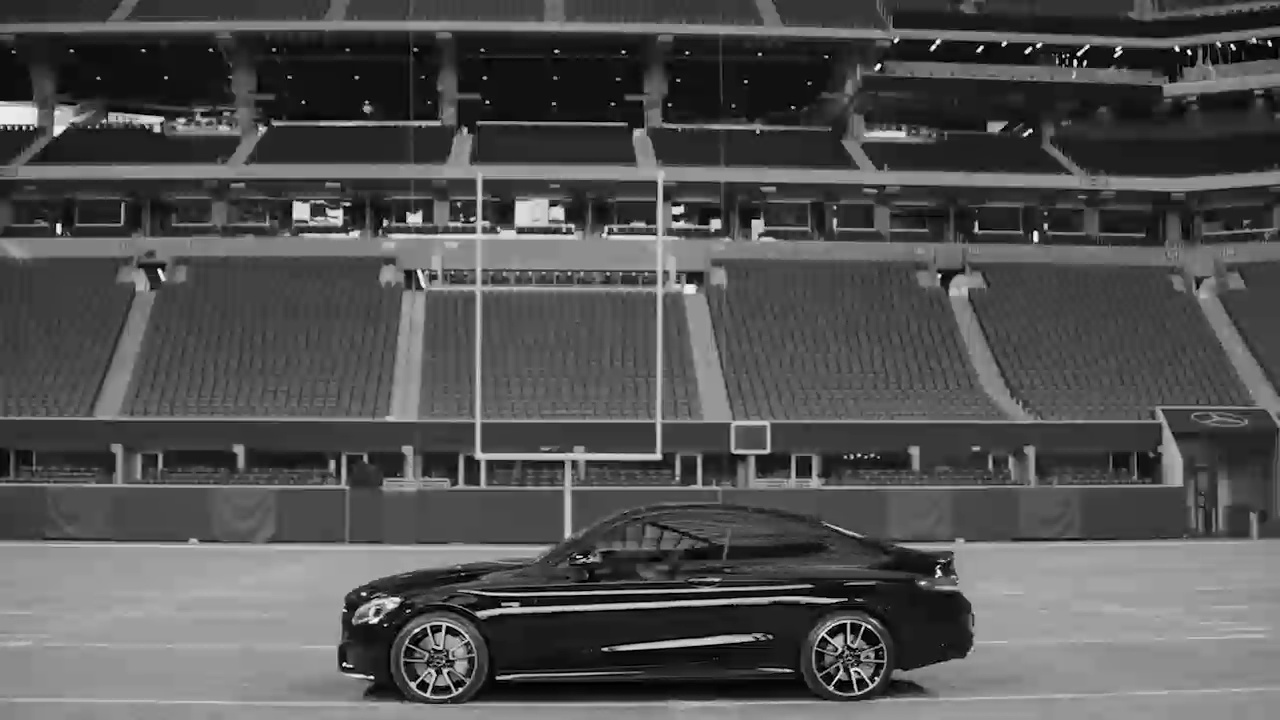car: (331, 502, 977, 707)
